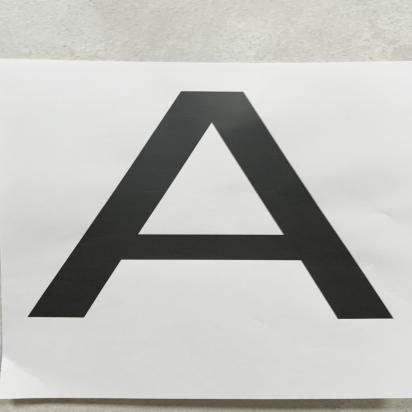seat: (41, 87, 412, 376)
